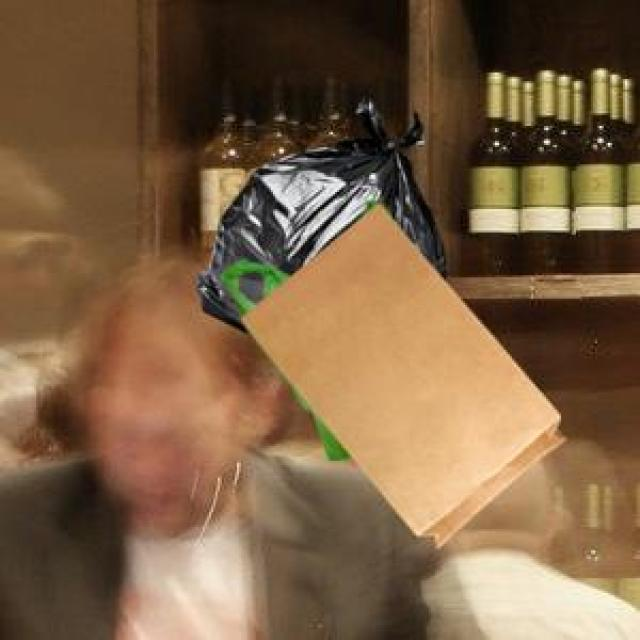miscellaneous trash: (192, 94, 442, 329)
paper: (237, 201, 561, 544)
